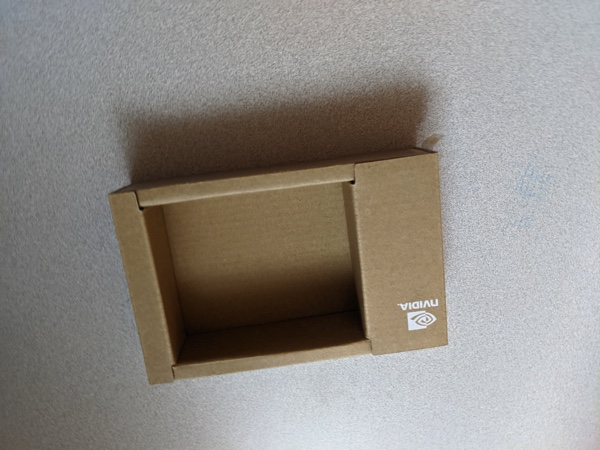cardboard: (87, 134, 490, 402)
